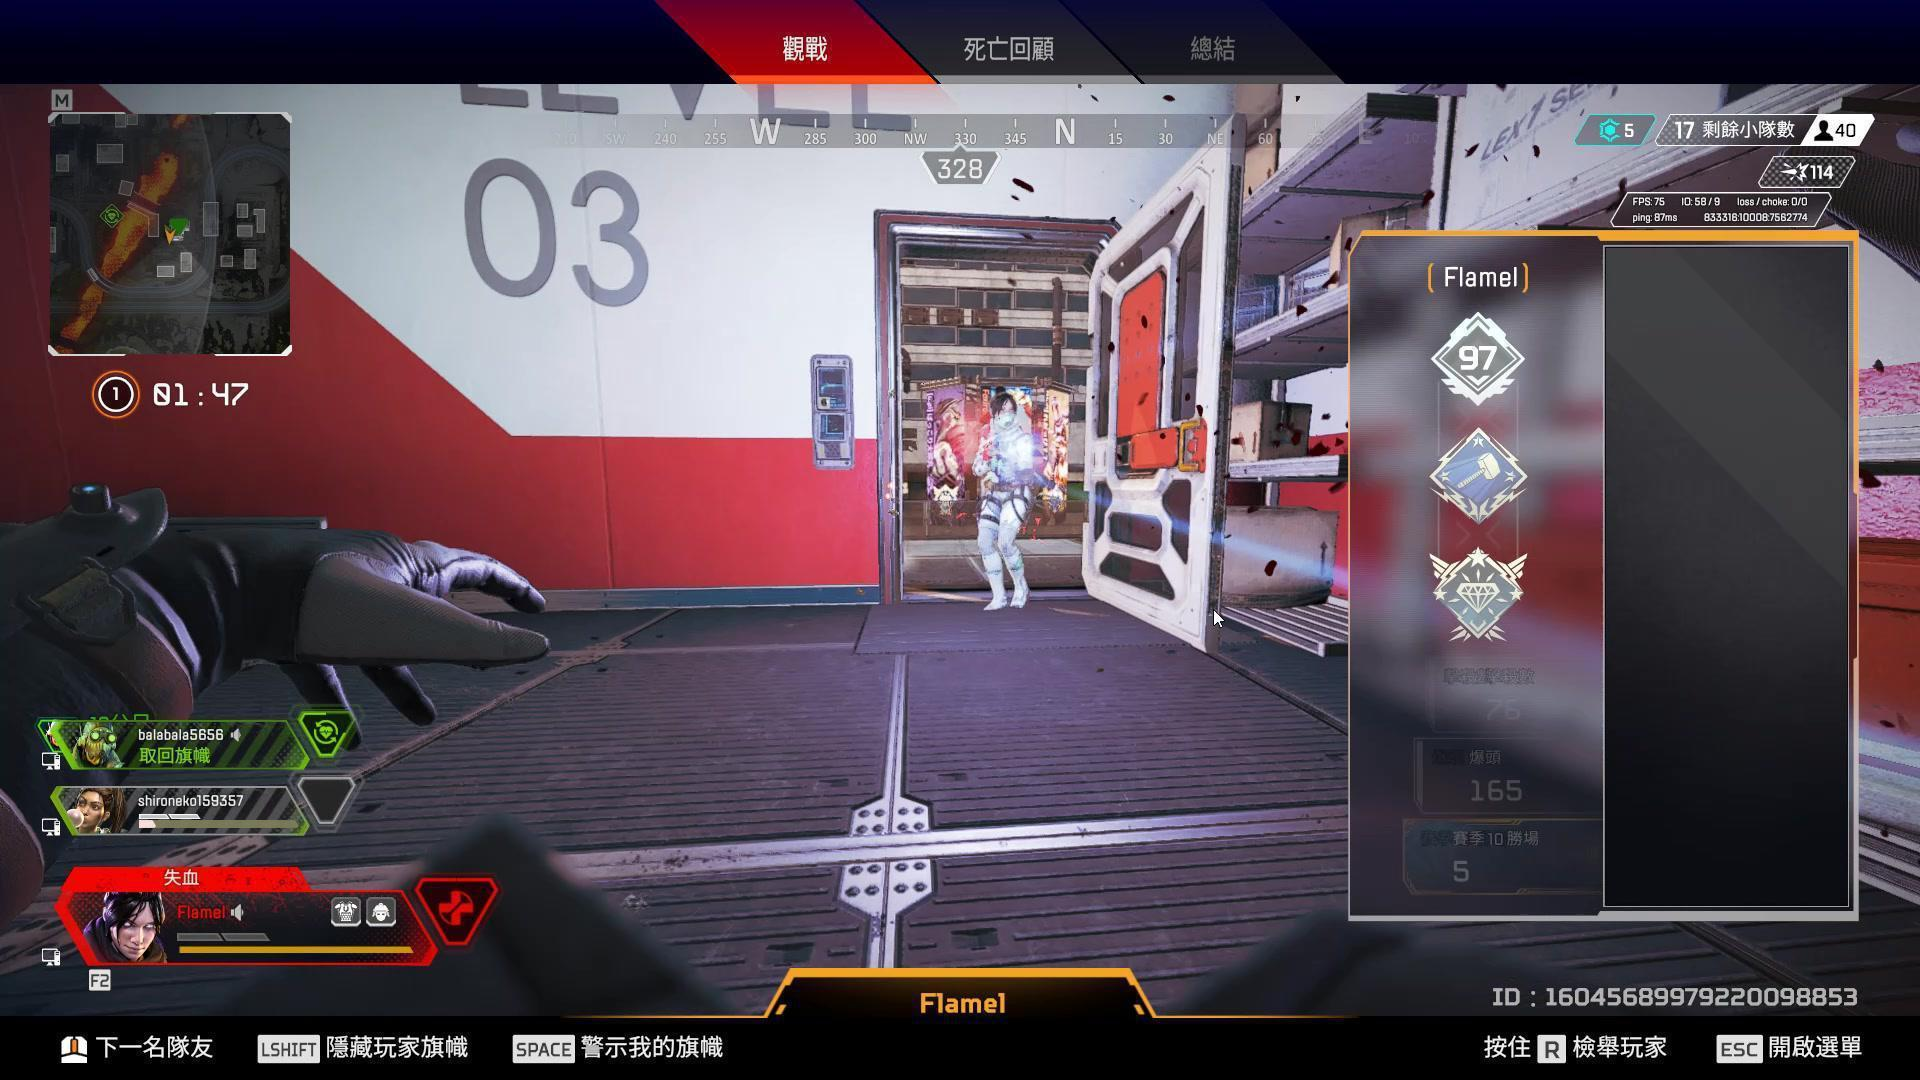avatar: (972, 390, 1039, 613)
